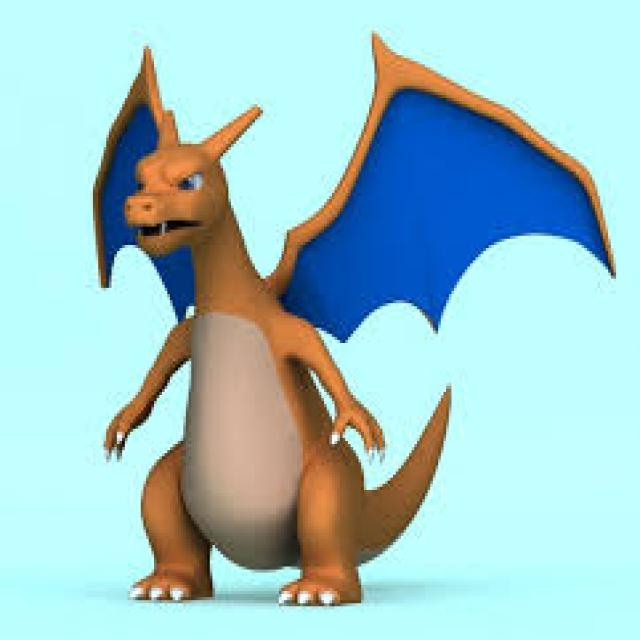charizard: (89, 23, 616, 602)
